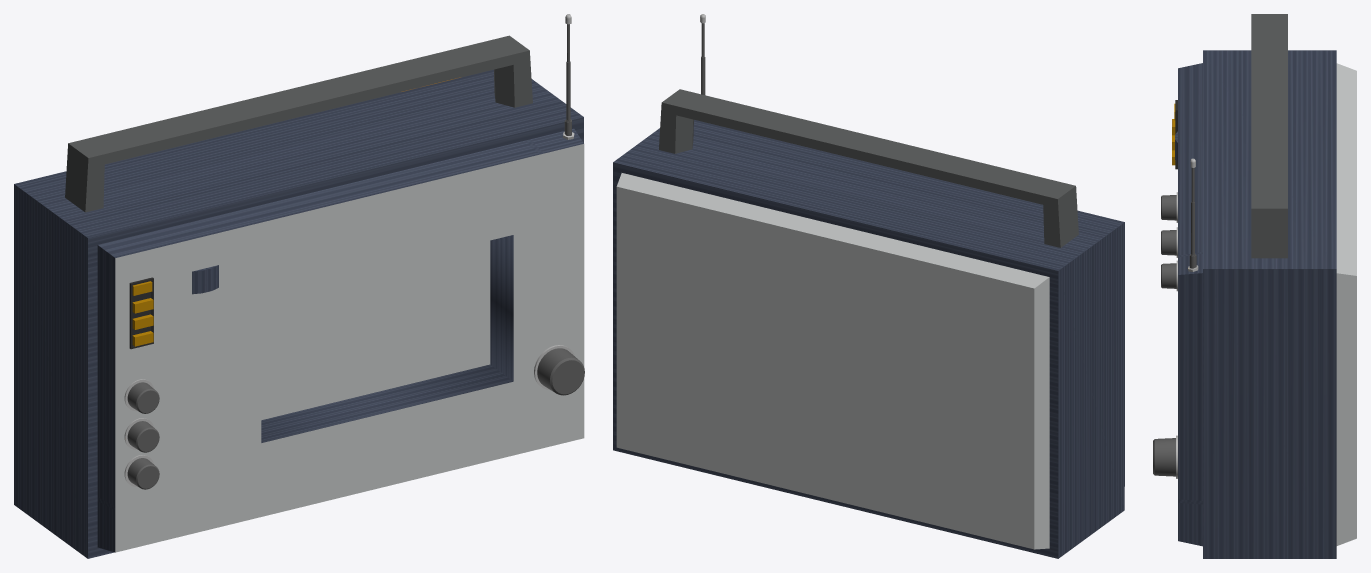
Rendered from SM_Radio.fbx.
3 views of the same model, side by side, from view 1: azimuth 30°, elevation 25°; view 2: azimuth 150°, elevation 25°; view 3: azimuth 270°, elevation 25° (orthographic). The views are drawn at different scales.
Visible parts, largest first — view 1: 4_low, 2_low, 1_low, 13_low, 14_low, 11_low, 10_low; view 2: 3_low, 2_low, 1_low; view 3: 2_low, 4_low, 3_low, 1_low, 13_low, 14_low, 7_low.
Boxes of the visible parts, box(x1,y1,x2,y2) form: 4_low: box(97, 128, 584, 552); 2_low: box(14, 69, 583, 558); 1_low: box(65, 35, 532, 212); 13_low: box(127, 382, 159, 489); 14_low: box(537, 348, 584, 395); 11_low: box(132, 281, 153, 346); 10_low: box(129, 277, 153, 349); 3_low: box(616, 173, 1049, 549); 2_low: box(613, 120, 1124, 558); 1_low: box(659, 89, 1078, 247); 2_low: box(1203, 50, 1336, 558); 4_low: box(1178, 63, 1202, 546); 3_low: box(1336, 63, 1356, 545); 1_low: box(1251, 14, 1287, 258); 13_low: box(1161, 195, 1176, 288); 14_low: box(1153, 438, 1175, 476); 7_low: box(1189, 168, 1196, 268).
Bounding box in the file's own units: 36.5 × 30.39 × 14.38.
